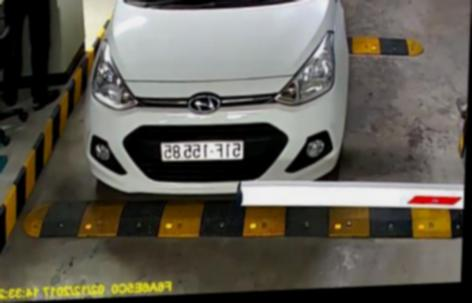License_Plate: (160, 139, 246, 164)
